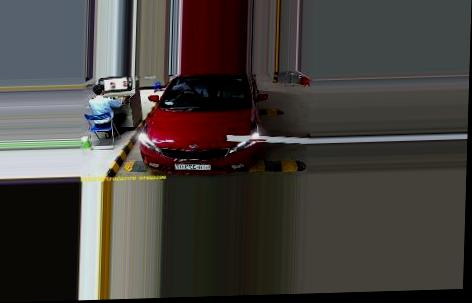License_Plate: (170, 161, 213, 173)
